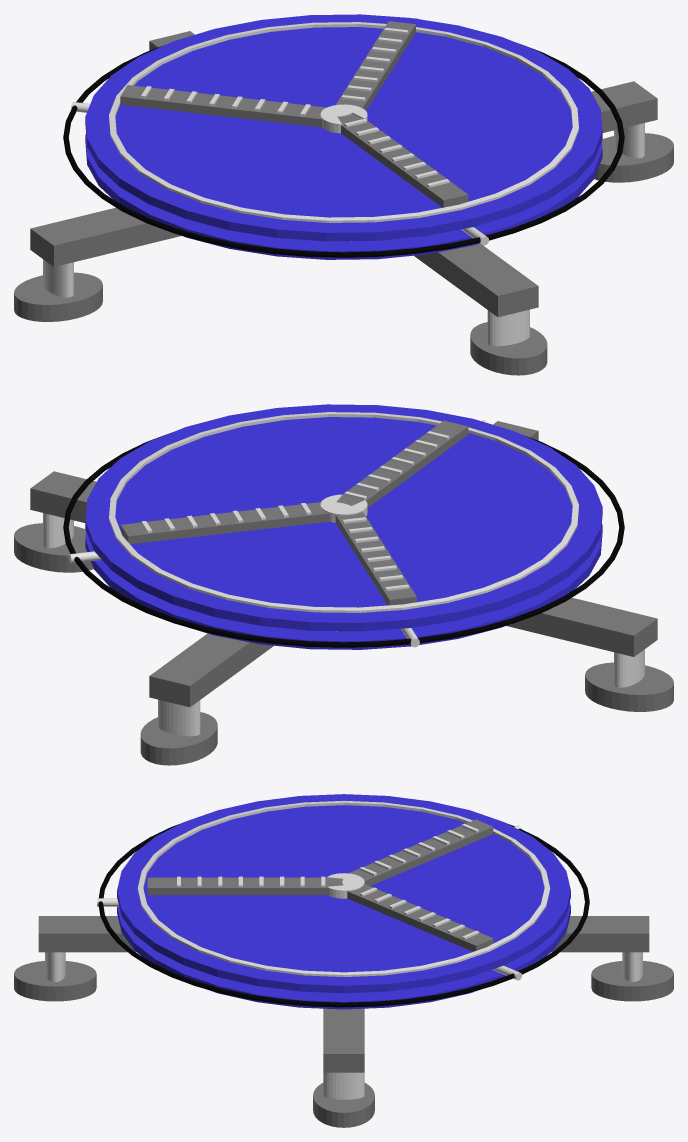
The model's file is terminal.glb.
3 renders of one model, top to bottom at view 1: azimuth 30°, elevation 25°; view 2: azimuth 150°, elevation 25°; view 3: azimuth 270°, elevation 25°, orthographic. The views are drawn at different scales.
Visible parts, largest first — view 1: 円柱.003, 円柱.002, 円柱.001, トーラス.002, 立方体.030, 立方体.027, 立方体.001, 円柱.014, 立方体, 円柱.008, 円柱.012, 立方体.018 (+5 smaller); view 2: 円柱.003, 円柱.002, 円柱.001, トーラス.002, 立方体.030, 立方体.028, 立方体.018, 円柱.014, 立方体, 円柱.011, 立方体.001, 円柱.012 (+5 smaller); view 3: 円柱.003, 円柱.002, 円柱.001, トーラス.002, 立方体, 立方体.027, 立方体.028, 立方体.029, 円柱.008, 円柱.011, 立方体.018, 立方体.001 (+5 smaller).
Part boxes in pixels (bbox=[...]): 円柱.003: bbox=[85, 14, 602, 241]; 円柱.002: bbox=[85, 134, 602, 259]; 円柱.001: bbox=[109, 22, 578, 241]; トーラス.002: bbox=[63, 44, 624, 257]; 立方体.030: bbox=[30, 207, 181, 266]; 立方体.027: bbox=[414, 243, 538, 317]; 立方体.001: bbox=[120, 85, 326, 127]; 円柱.014: bbox=[14, 272, 102, 321]; 立方体: bbox=[338, 113, 468, 207]; 円柱.008: bbox=[470, 322, 547, 375]; 円柱.012: bbox=[594, 133, 673, 182]; 立方体.018: bbox=[336, 21, 415, 110]; 円柱.003: bbox=[85, 404, 602, 631]; 円柱.002: bbox=[85, 524, 602, 649]; 円柱.001: bbox=[109, 412, 578, 631]; トーラス.002: bbox=[63, 434, 624, 647]; 立方体.030: bbox=[506, 597, 657, 656]; 立方体.028: bbox=[149, 633, 273, 707]; 立方体.018: bbox=[121, 502, 329, 544]; 円柱.014: bbox=[585, 662, 673, 711]; 立方体: bbox=[337, 420, 468, 507]; 円柱.011: bbox=[140, 712, 217, 765]; 立方体.001: bbox=[335, 511, 416, 605]; 円柱.012: bbox=[14, 523, 93, 572]; 円柱.003: bbox=[117, 794, 570, 993]; 円柱.002: bbox=[117, 902, 570, 1009]; 円柱.001: bbox=[137, 800, 550, 976]; トーラス.002: bbox=[98, 823, 589, 1007]; 立方体: bbox=[147, 877, 342, 895]; 立方体.027: bbox=[38, 916, 136, 952]; 立方体.028: bbox=[551, 916, 649, 952]; 立方体.029: bbox=[323, 1008, 364, 1072]; 円柱.008: bbox=[14, 961, 96, 1001]; 円柱.011: bbox=[591, 961, 673, 1001]; 立方体.018: bbox=[347, 884, 493, 951]; 立方体.001: bbox=[349, 819, 493, 885].
Size of the model in its own units: 14.09 by 2.53 by 14.09.
